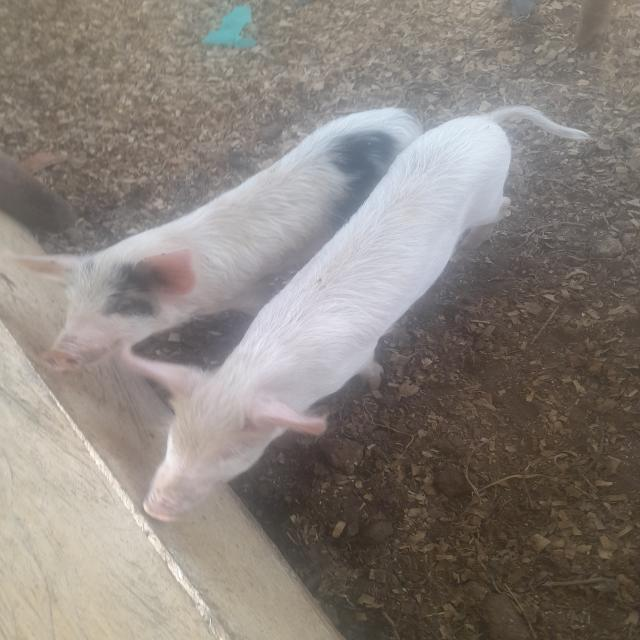pig: (35, 77, 635, 547)
